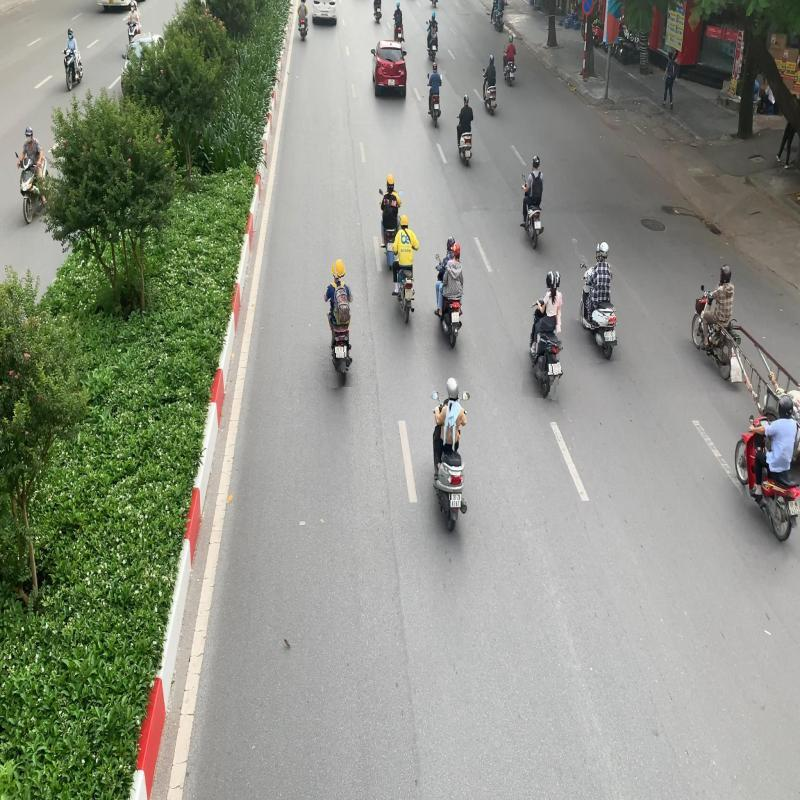helmet: (446, 374, 460, 400), (334, 258, 346, 278), (546, 269, 556, 288), (599, 242, 609, 260)
licenseplate: (787, 501, 800, 518), (449, 492, 462, 508), (334, 345, 346, 359), (552, 361, 562, 377), (604, 330, 614, 342)
motorcyclist: (735, 394, 800, 545), (428, 374, 472, 534), (525, 268, 567, 400), (576, 241, 619, 362), (322, 258, 356, 388)
